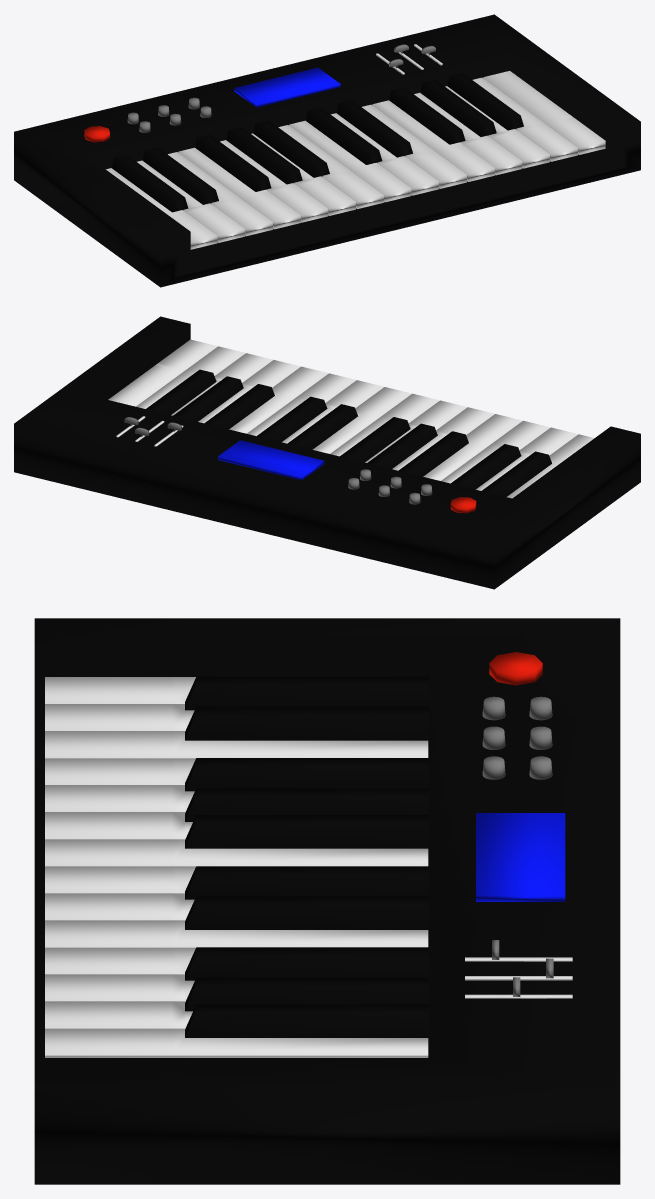
File: teclado.fbx
3 views of the same model, one above another, from view 1: azimuth 30°, elevation 25°; view 2: azimuth 150°, elevation 25°; view 3: azimuth 270°, elevation 25° (orthographic). The views are drawn at different scales.
Parts seen in each view (by area): view 1: Body, Cube.024, Cube.017, Cube.005, Cube.012, Cube.025, Cube.023, Cube.011, Cube.016, Cube.004, Cube.010, Cube.022 (+16 smaller); view 2: Body, Cube.024, Cube.025, Cube.017, Cube.005, Cube.012, Cube.011, Cube.016, Cube.023, Cube.004, Cube.022, Cube.013 (+16 smaller); view 3: Body, Cube.011, Cube.003, Cube.004, Cube.023, Cube.016, Cube.010, Cube.015, Cube.022, Cube.025, Cube.001, Cube.006 (+17 smaller).
Boxes of the visible parts, left/top/right/bottom form: Body: left=14, top=14, right=640, bottom=287; Cube.024: left=483, top=71, right=605, bottom=154; Cube.017: left=372, top=100, right=494, bottom=181; Cube.005: left=178, top=147, right=300, bottom=229; Cube.012: left=289, top=120, right=411, bottom=202; Cube.025: left=234, top=67, right=340, bottom=107; Cube.023: left=472, top=77, right=577, bottom=161; Cube.011: left=278, top=125, right=383, bottom=209; Cube.016: left=362, top=104, right=466, bottom=188; Cube.004: left=168, top=152, right=272, bottom=236; Cube.010: left=254, top=120, right=329, bottom=177; Cube.022: left=448, top=73, right=523, bottom=130; Body: left=14, top=316, right=640, bottom=589; Cube.024: left=108, top=339, right=217, bottom=406; Cube.025: left=218, top=440, right=324, bottom=480; Cube.017: left=229, top=366, right=327, bottom=433; Cube.005: left=423, top=414, right=521, bottom=480; Cube.012: left=312, top=387, right=411, bottom=453; Cube.011: left=330, top=393, right=438, bottom=456; Cube.016: left=247, top=373, right=355, bottom=435; Cube.023: left=136, top=346, right=244, bottom=408; Cube.004: left=441, top=420, right=549, bottom=483; Cube.022: left=146, top=369, right=216, bottom=415; Cube.013: left=288, top=404, right=357, bottom=449; Body: left=34, top=618, right=620, bottom=1184; Cube.011: left=45, top=839, right=428, bottom=866; Cube.003: left=185, top=706, right=428, bottom=752; Cube.004: left=45, top=731, right=428, bottom=758; Cube.023: left=45, top=1028, right=428, bottom=1055; Cube.016: left=45, top=920, right=428, bottom=947; Cube.010: left=185, top=815, right=428, bottom=861; Cube.015: left=185, top=896, right=428, bottom=942; Cube.022: left=185, top=1004, right=428, bottom=1050; Cube.025: left=476, top=813, right=565, bottom=901; Cube.001: left=185, top=676, right=428, bottom=710; Cube.006: left=185, top=758, right=428, bottom=791.
Size of the model in its own units: 126 by 14.44 by 66.79.
